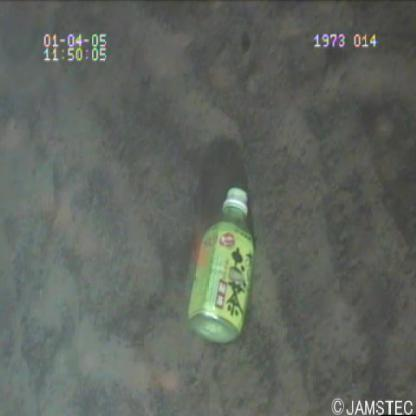Rác: (182, 186, 258, 352)
